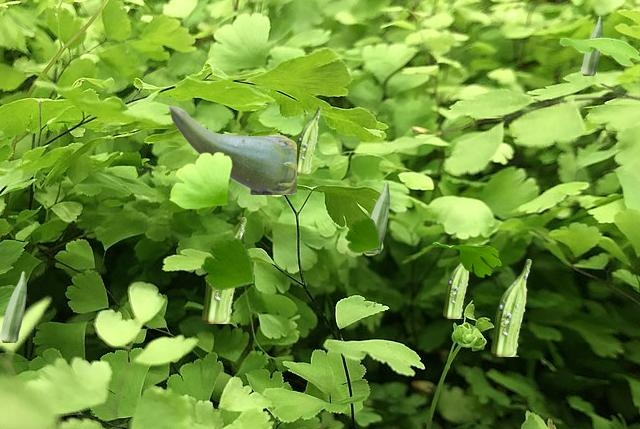okra: (168, 105, 295, 193), (202, 217, 245, 322), (491, 259, 530, 355), (0, 271, 25, 341), (364, 182, 388, 252), (296, 106, 320, 172), (443, 263, 469, 317), (581, 16, 601, 74)
